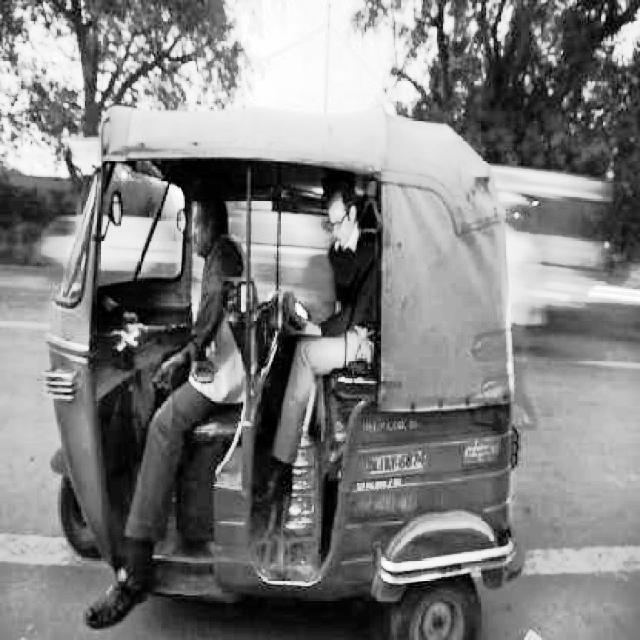Auto-Rickshaw: (48, 106, 524, 637)
